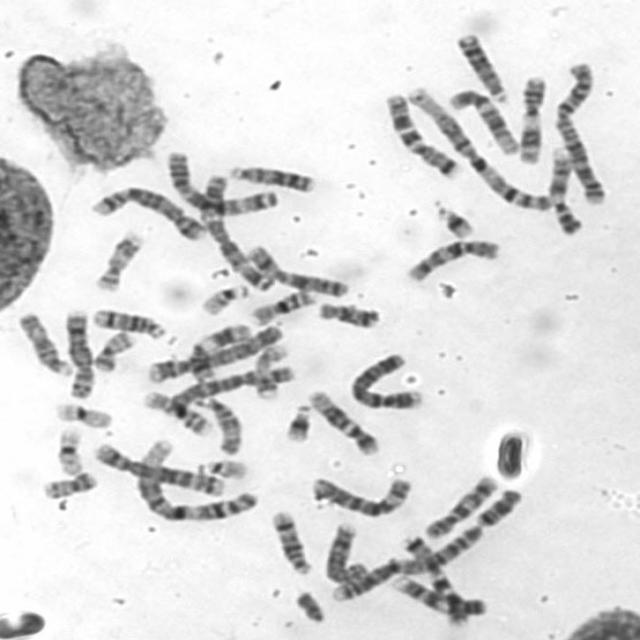A1: (396, 83, 551, 211), (129, 433, 260, 525)
A2: (324, 519, 488, 604), (550, 56, 610, 206)
A3: (196, 168, 278, 292), (160, 147, 280, 216)
B4: (144, 320, 286, 384), (346, 348, 426, 412)
B5: (89, 439, 231, 499), (86, 180, 209, 242)
C10: (420, 471, 500, 540), (401, 235, 501, 284)
C11: (185, 319, 255, 382), (513, 71, 548, 165)
C12: (302, 383, 383, 458), (446, 86, 522, 158)
C6: (163, 362, 298, 416), (307, 472, 415, 518)
C7: (396, 528, 474, 626), (378, 88, 461, 179)
C8: (58, 303, 96, 400), (320, 520, 371, 586)
C9: (387, 570, 490, 621), (544, 142, 585, 235)
D13: (451, 27, 512, 104), (223, 160, 316, 194)
D14: (267, 507, 313, 576), (86, 304, 168, 340)
D15: (13, 306, 76, 378), (193, 392, 246, 456)
E16: (139, 386, 215, 438), (247, 286, 318, 327)
E17: (90, 225, 147, 292), (247, 338, 291, 402)
E18: (470, 484, 525, 528), (312, 298, 382, 330)
F19: (51, 421, 89, 477), (51, 398, 115, 431)
F20: (88, 326, 136, 373), (38, 465, 101, 500)
G21: (429, 200, 477, 240), (280, 398, 314, 443)
G22: (196, 281, 252, 316), (194, 454, 253, 481)
X: (243, 240, 351, 299)
Y: (491, 427, 531, 481)
